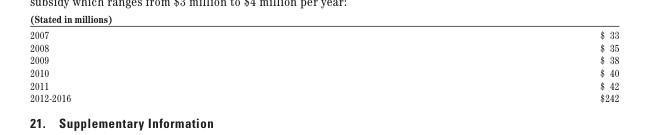table: (29, 28, 618, 103)
table column: (29, 28, 334, 103), (334, 28, 618, 103)
table row: (29, 40, 618, 53), (29, 53, 618, 66), (29, 78, 618, 91), (29, 28, 618, 40), (29, 66, 618, 78), (29, 91, 618, 103)
